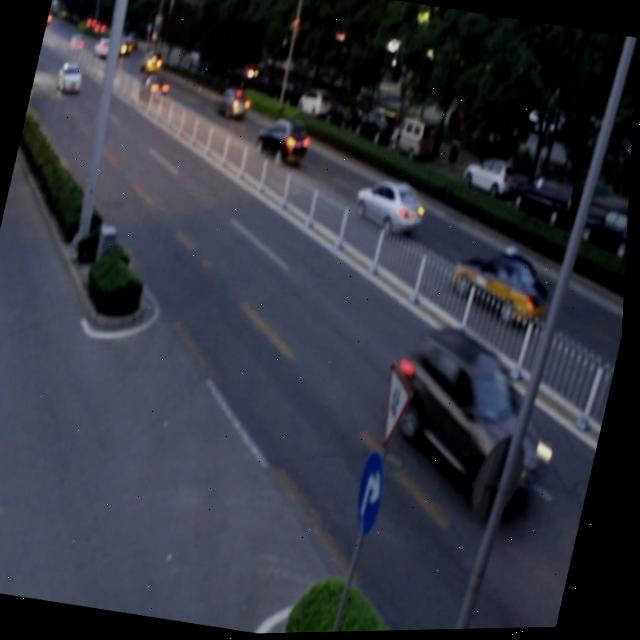car: (388, 326, 574, 519), (452, 248, 556, 330), (352, 178, 429, 241), (252, 114, 318, 173), (212, 87, 255, 126), (135, 72, 174, 112)
